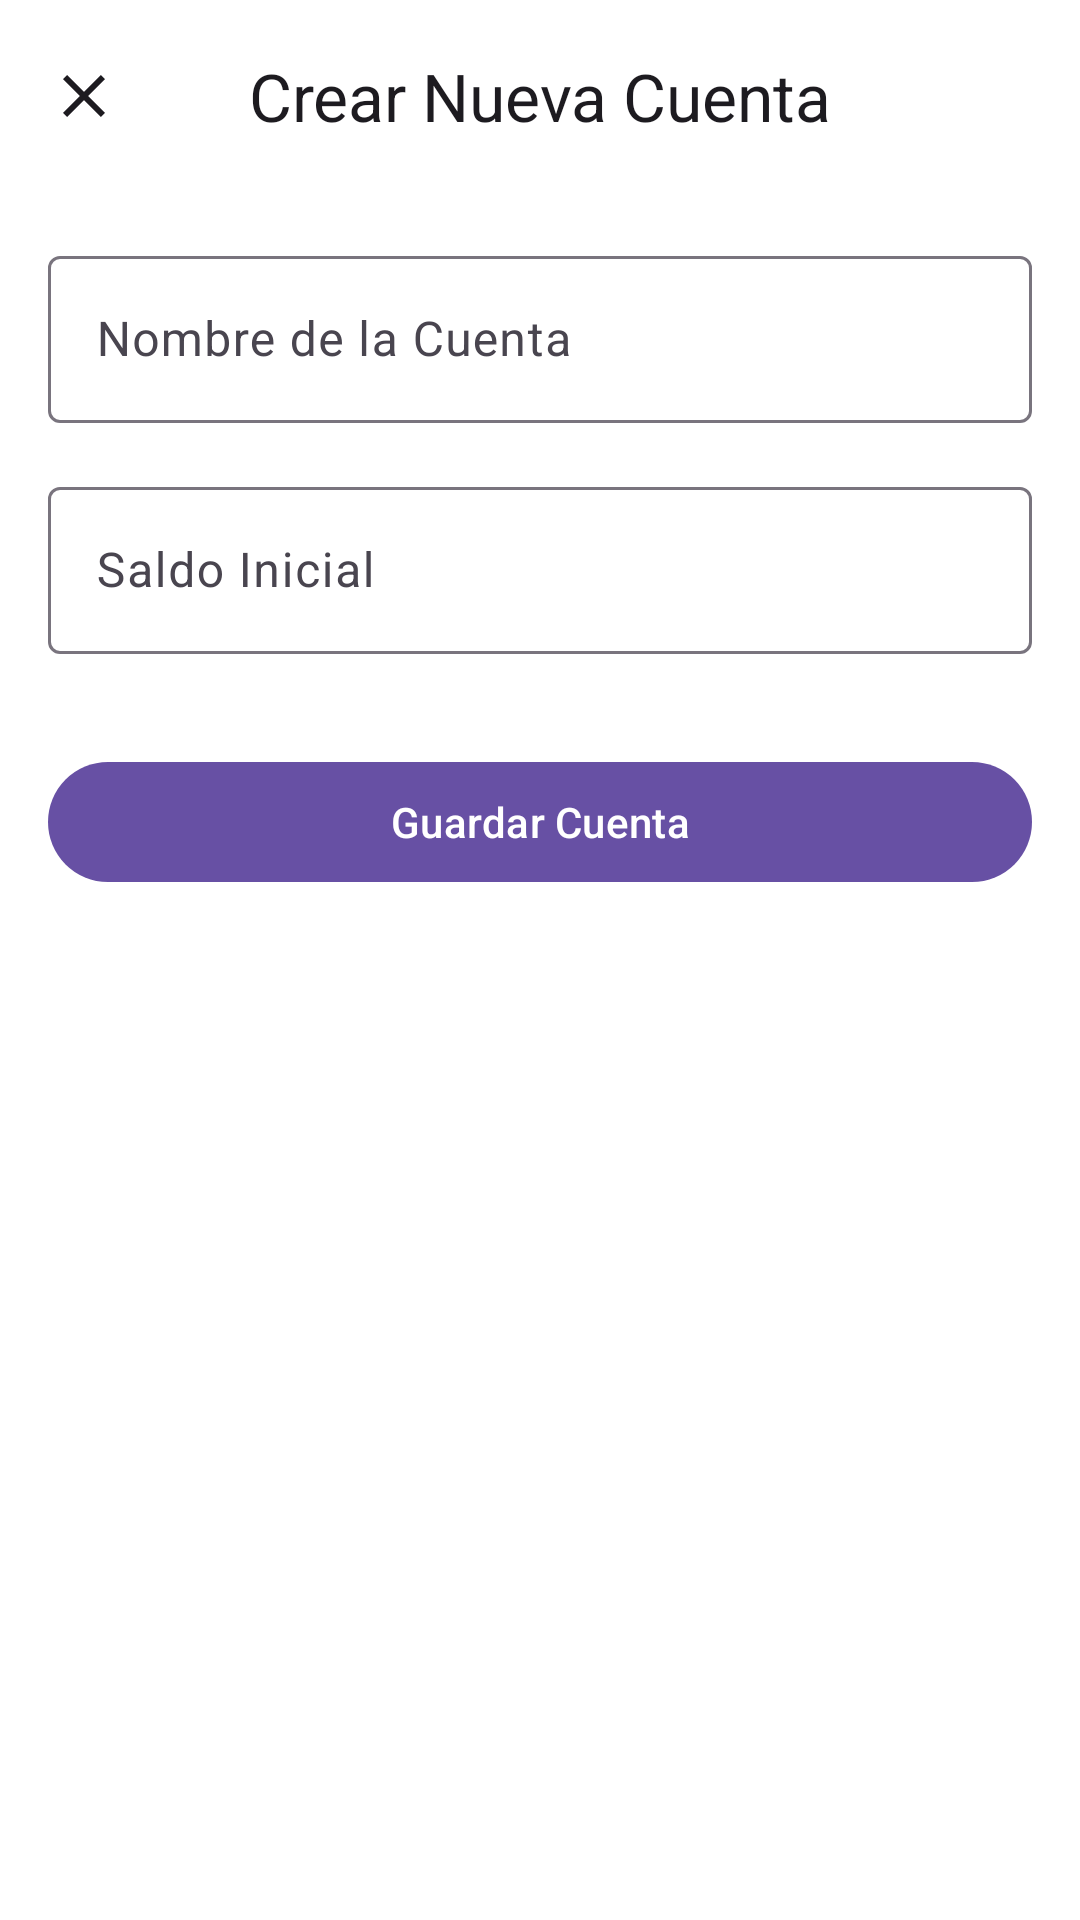

Named icons in this screenshot (1080x1920) and their centers, [x,y]:
Cerrar: [84,96]
